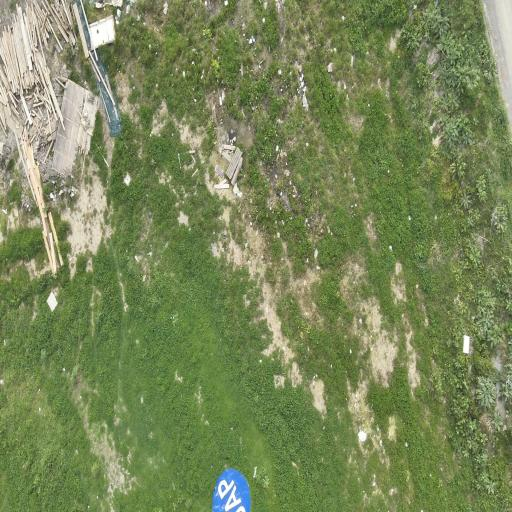UAP: (213, 469, 250, 511)
